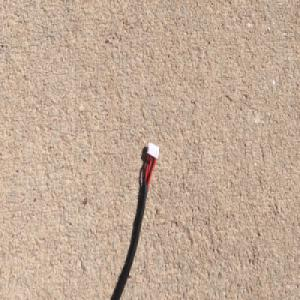Wire: (107, 137, 162, 300)
